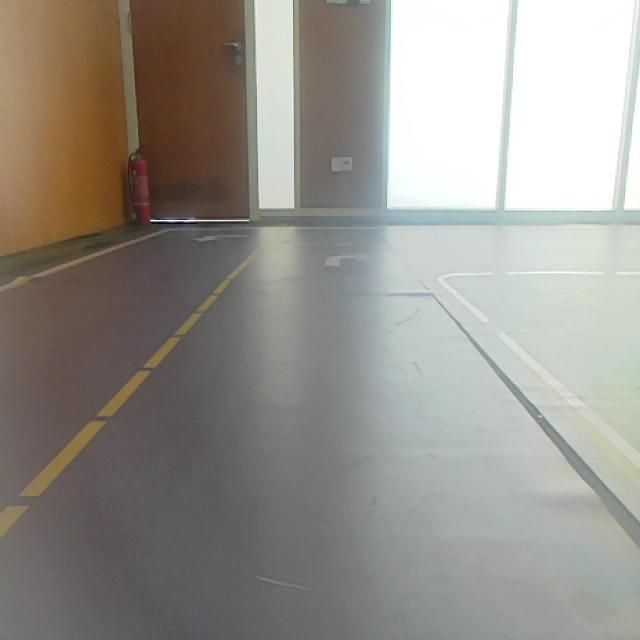left_lane: (0, 250, 263, 538)
right_lane: (439, 278, 640, 484)
